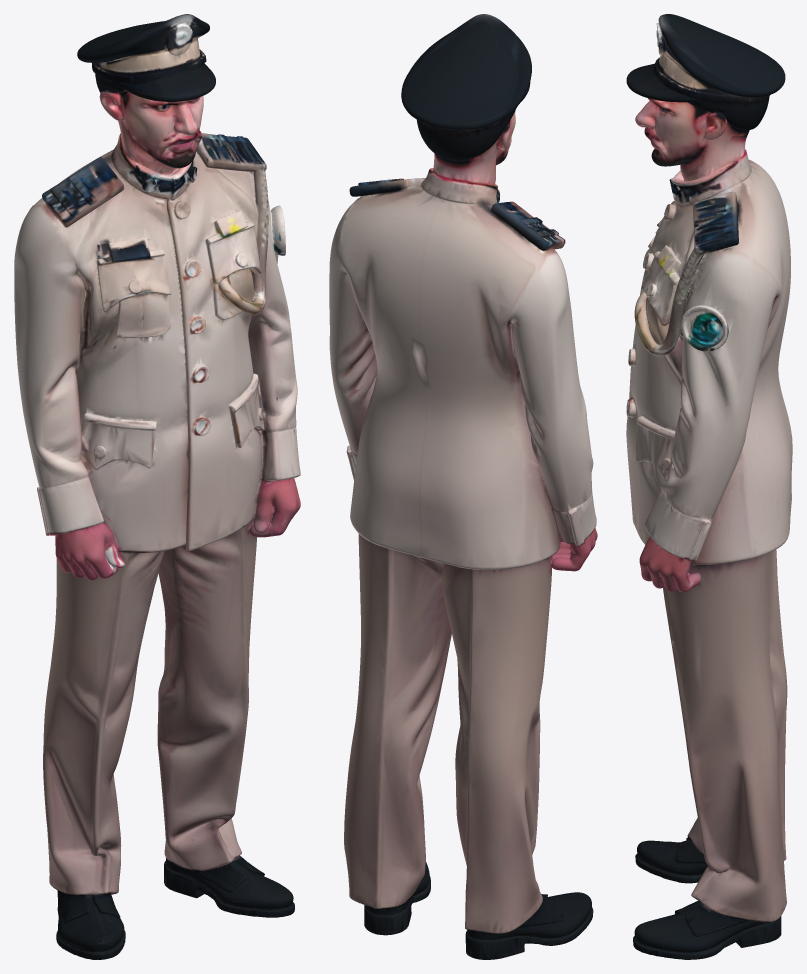
File: police.glb
3 renders of one model, left to right at view 1: azimuth 30°, elevation 25°; view 2: azimuth 150°, elevation 25°; view 3: azimuth 270°, elevation 25°, orthographic. The views are drawn at different scales.
Parts seen in each view (by area): view 1: material.001; view 2: material.001; view 3: material.001.
Part boxes in pixels (x1,y1,x2,y2): material.001: [14, 14, 300, 959]; material.001: [329, 14, 597, 959]; material.001: [626, 14, 792, 959].
Bounding box in the file's own units: 0.3427 × 1.17 × 0.198.
Materials: 1 (1 with a texture image).
